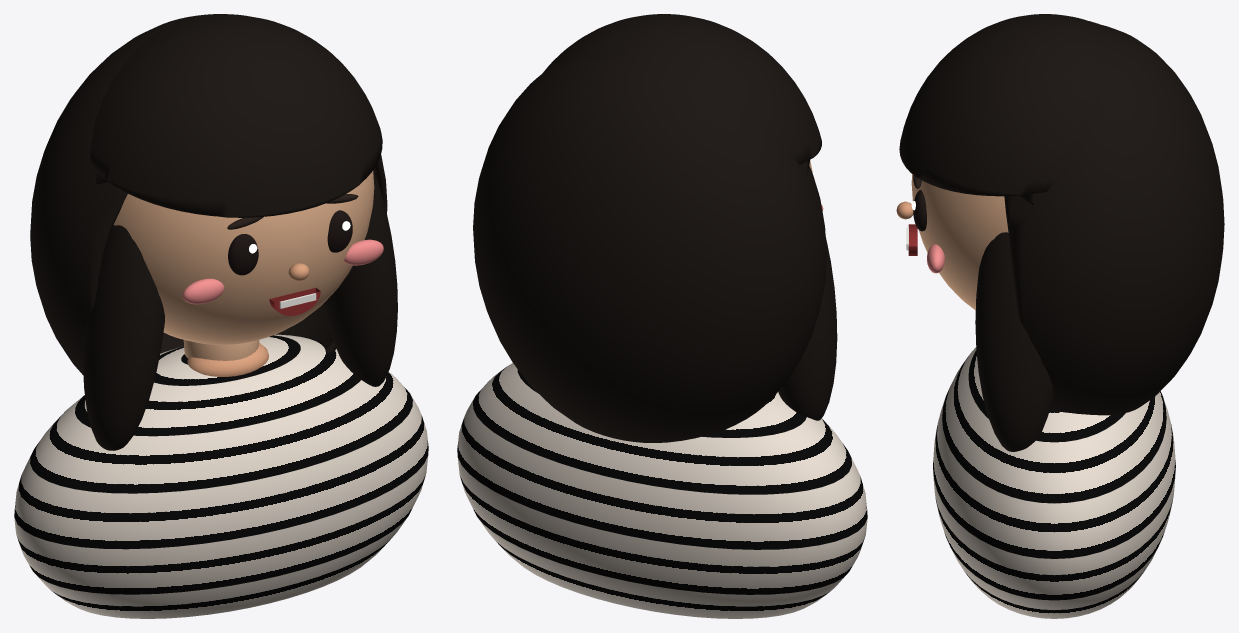
The model's file is avatar.glb.
3 renders of one model, left to right at view 1: azimuth 30°, elevation 25°; view 2: azimuth 150°, elevation 25°; view 3: azimuth 270°, elevation 25°, orthographic. The views are drawn at different scales.
Parts seen in each view (by area): view 1: Body, Bangs, Face, HairBack, Strand-1, Strand1, NeckShade, Neck, Eye-1, Blush-1, Eye1, Blush1 (+2 smaller); view 2: HairBack, Body, Bangs, Strand-1, HairCap; view 3: HairBack, Body, Bangs, Strand1, Face, HairCap.
Boxes of the visible parts, x1,y1,x2,y2 form: Body: [14, 334, 428, 618]; Bangs: [90, 15, 382, 217]; Face: [113, 170, 374, 344]; HairBack: [30, 14, 387, 375]; Strand-1: [83, 225, 164, 450]; Strand1: [323, 171, 397, 386]; NeckShade: [187, 343, 268, 376]; Neck: [183, 340, 259, 360]; Eye-1: [228, 234, 258, 275]; Blush-1: [182, 278, 224, 304]; Eye1: [327, 210, 352, 252]; Blush1: [344, 239, 383, 265]; HairBack: [473, 58, 826, 442]; Body: [457, 363, 867, 618]; Bangs: [542, 14, 821, 164]; Strand-1: [778, 237, 837, 420]; HairCap: [552, 44, 809, 172]; HairBack: [1004, 25, 1224, 415]; Body: [933, 347, 1175, 618]; Bangs: [899, 14, 1091, 196]; Strand1: [975, 232, 1053, 451]; Face: [911, 174, 1008, 309]; HairCap: [1019, 20, 1111, 205].
Bounding box in the file's own units: 1.44 × 1.89 × 1.08.
Materials: 10 (1 with a texture image).
